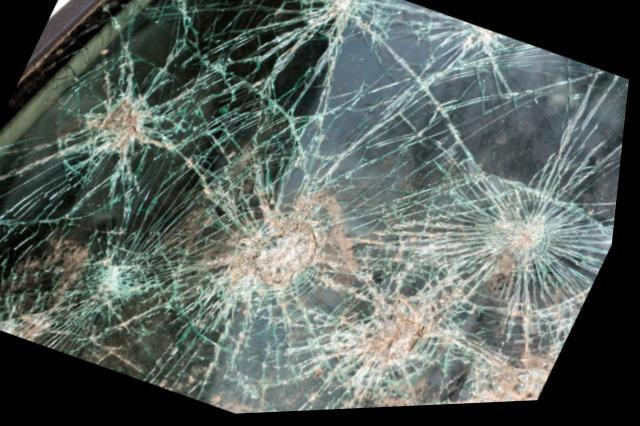glass shatter: (0, 0, 631, 416)
